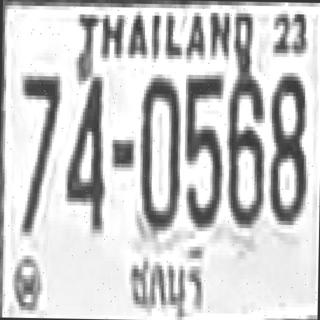N00: (139, 74, 179, 227)
N04: (64, 73, 104, 229)
N05: (182, 70, 222, 224)
N06: (226, 71, 263, 224)
N07: (17, 72, 60, 232), (19, 72, 59, 217)
N08: (268, 68, 305, 221)
P13: (120, 245, 208, 320)
